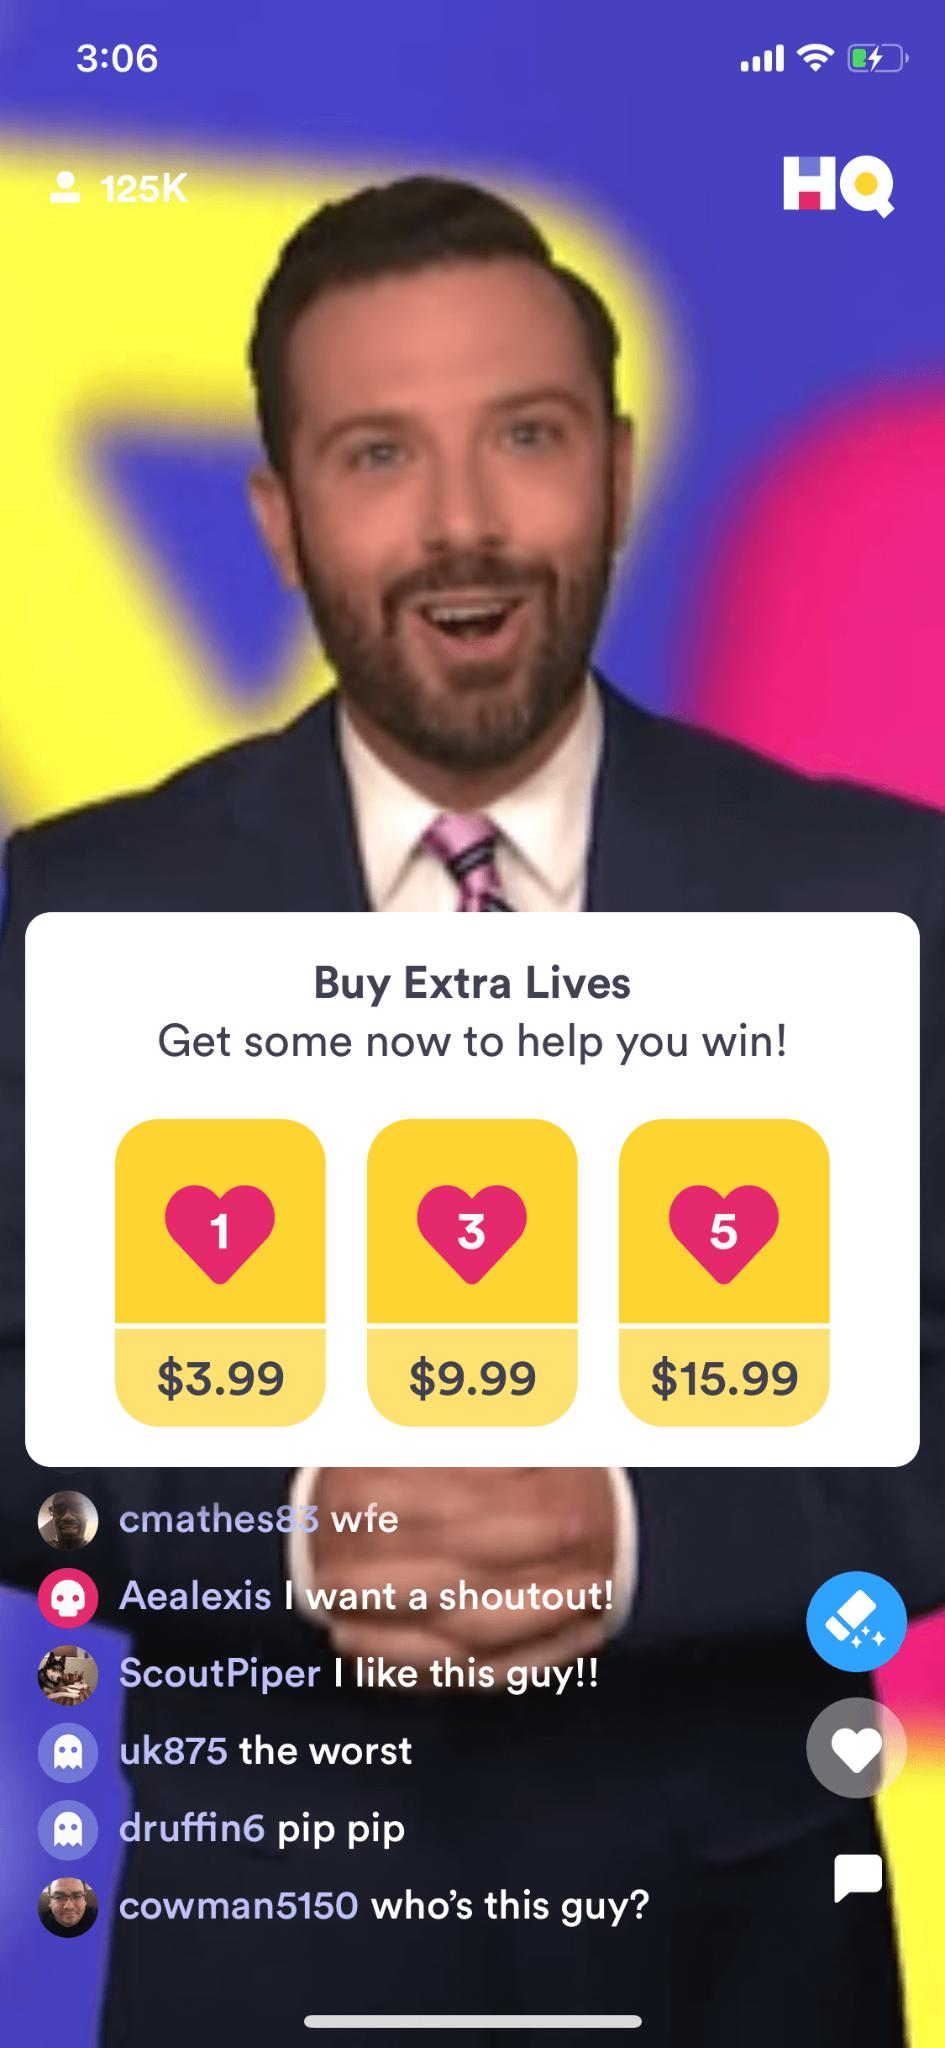FAB (Floating Action Button): (801, 1695, 919, 1802), (800, 1573, 916, 1678), (814, 1827, 922, 1927)
